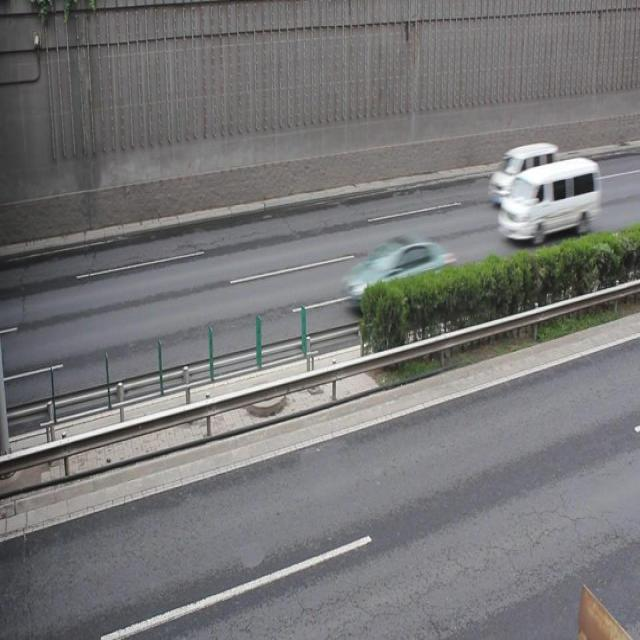car: (346, 234, 455, 312)
truck: (496, 157, 599, 241), (488, 140, 556, 204)
